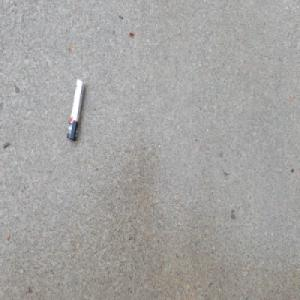Battery: (65, 77, 85, 142)
